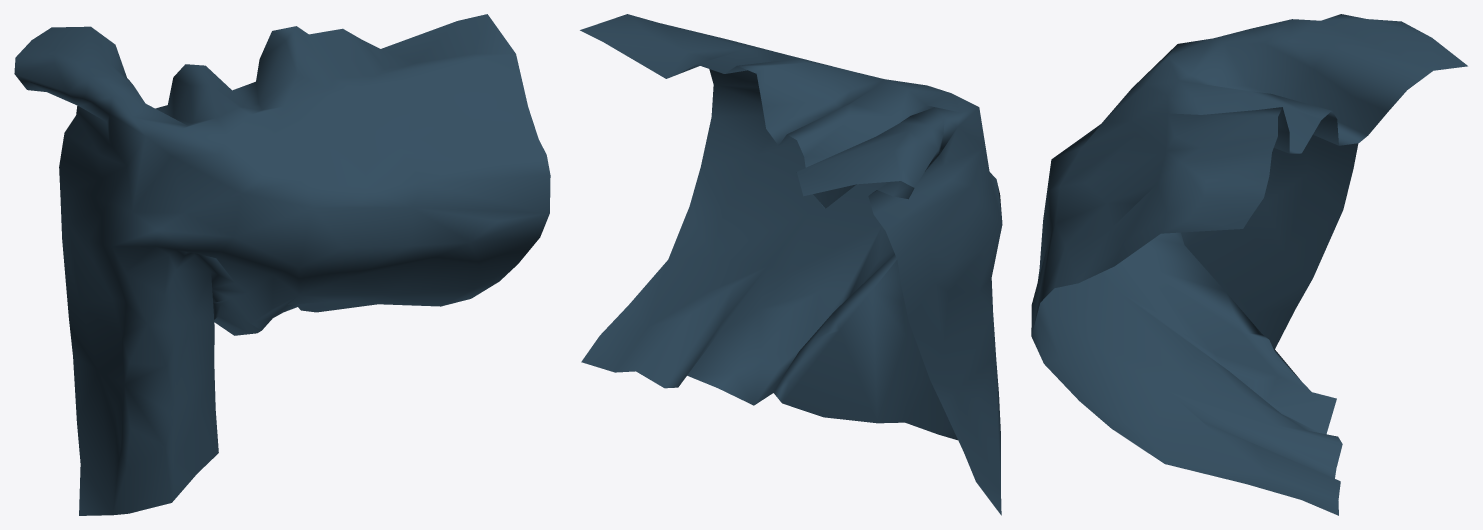
Rendered from Fp218_Throwblancket2SofaBlanket_218_1.obj.
The picture shows the model from 3 angles, left to right: view 1: azimuth 30°, elevation 25°; view 2: azimuth 150°, elevation 25°; view 3: azimuth 270°, elevation 25°; orthographic projection. The views are drawn at different scales.
Visible parts, largest first — view 1: SofaBlanket_218; view 2: SofaBlanket_218; view 3: SofaBlanket_218.
Boxes of the visible parts, x1,y1,x2,y2 form: SofaBlanket_218: (14,14,550,515); SofaBlanket_218: (580,14,1002,515); SofaBlanket_218: (1031,14,1467,515).
Size of the model in its own units: 0.8991 by 0.8503 by 0.7614.
